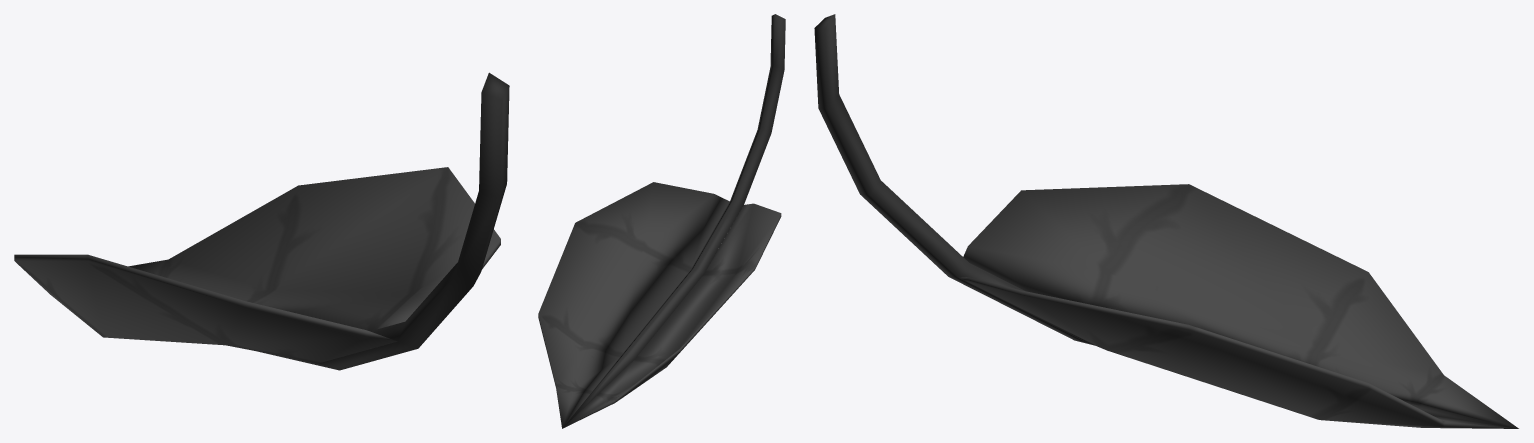
The model's file is Food1v9.dae.
3 views of the same model, side by side, from view 1: azimuth 30°, elevation 25°; view 2: azimuth 150°, elevation 25°; view 3: azimuth 270°, elevation 25° (orthographic). The views are drawn at different scales.
Visible parts, largest first — view 1: Cube_001; view 2: Cube_001; view 3: Cube_001.
Part boxes in pixels (box(x1,y1,x2,y2)): Cube_001: box(14, 72, 509, 370); Cube_001: box(538, 14, 785, 428); Cube_001: box(814, 14, 1518, 428).
Bounding box in the file's own units: 0.7677 × 1.63 × 1.06.
1 material, 1 textured.
